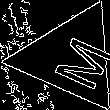M_NW: (34, 25, 107, 89)
